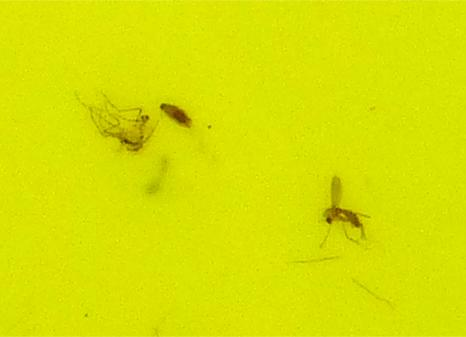Nematocera: (321, 176, 366, 237), (100, 106, 153, 155)
Trichoptera: (157, 100, 194, 130)
